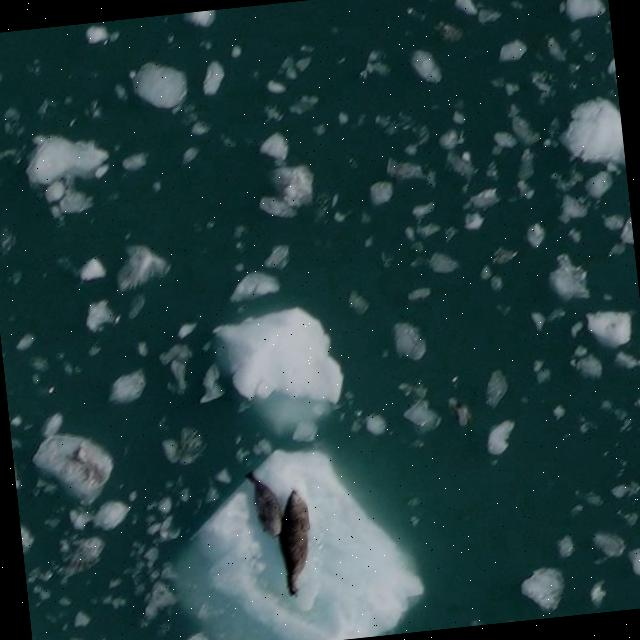seal: (276, 488, 310, 597), (250, 475, 281, 536)
